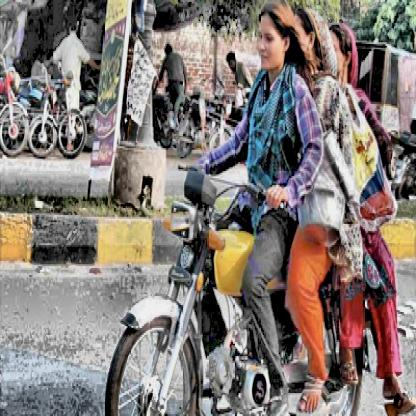not_wear: (296, 0, 332, 78), (258, 0, 288, 78), (324, 20, 356, 85)
